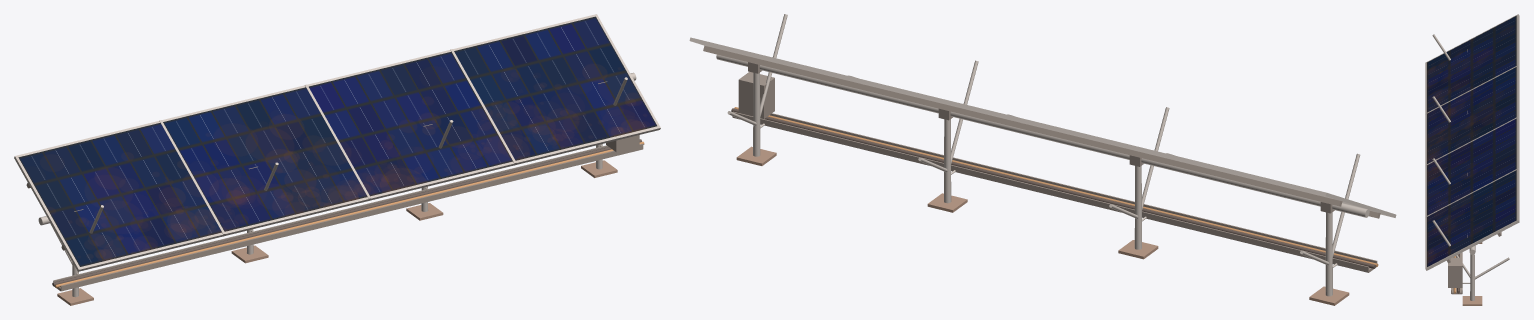
Rendered from E02_solar_row_10m.glb.
3 renders of one model, left to right at view 1: azimuth 30°, elevation 25°; view 2: azimuth 150°, elevation 25°; view 3: azimuth 270°, elevation 25°, orthographic. The views are drawn at different scales.
Parts seen in each view (by area): view 1: solar_cells, panel_frame, tray_side (×2), cable (×2), cable_tray; view 2: tray_side (×2), purlin, cable (×2), panel_frame, torque_tube, post (×4), inverter_box, cable_tray; view 3: solar_cells, panel_frame, module_joint (×3), inverter_box, strut_back (×4), post, post_foot, strut_front.
Part boxes in pixels (x1=…): solar_cells: x1=18, y1=16, x2=656, y2=266; panel_frame: x1=14, y1=14, x2=660, y2=271; tray_side (×2): x1=53, y1=144, x2=643, y2=290; cable (×2): x1=52, y1=139, x2=644, y2=287; cable_tray: x1=54, y1=149, x2=642, y2=291; tray_side (×2): x1=732, y1=111, x2=1377, y2=272; purlin: x1=703, y1=45, x2=1342, y2=206; cable (×2): x1=731, y1=107, x2=1378, y2=268; panel_frame: x1=689, y1=37, x2=1396, y2=217; torque_tube: x1=716, y1=54, x2=1369, y2=217; post (×4): x1=753, y1=72, x2=1332, y2=296; inverter_box: x1=738, y1=72, x2=774, y2=118; cable_tray: x1=733, y1=117, x2=1376, y2=272; solar_cells: x1=1427, y1=16, x2=1516, y2=266; panel_frame: x1=1425, y1=14, x2=1519, y2=270; module_joint (×3): x1=1425, y1=65, x2=1519, y2=217; inverter_box: x1=1448, y1=257, x2=1462, y2=287; strut_back (×4): x1=1432, y1=34, x2=1470, y2=277; post: x1=1470, y1=254, x2=1474, y2=300; post_foot: x1=1462, y1=296, x2=1482, y2=305; strut_front: x1=1474, y1=257, x2=1509, y2=279.
Bounding box in the file's own units: 10.2 × 2.08 × 1.94.
6 materials, 1 textured.
